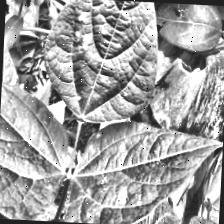Bean Rust: (62, 122, 223, 224), (37, 0, 158, 125), (0, 67, 68, 221)
